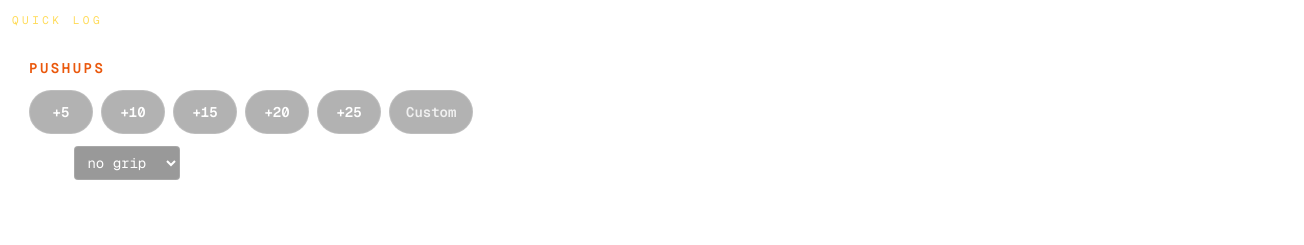
it: QuickLog › surfaces a thrown error message inline
Click the button with test id "quick-log-pushups-10". click: (133,112)
box: [101,90,165,134]
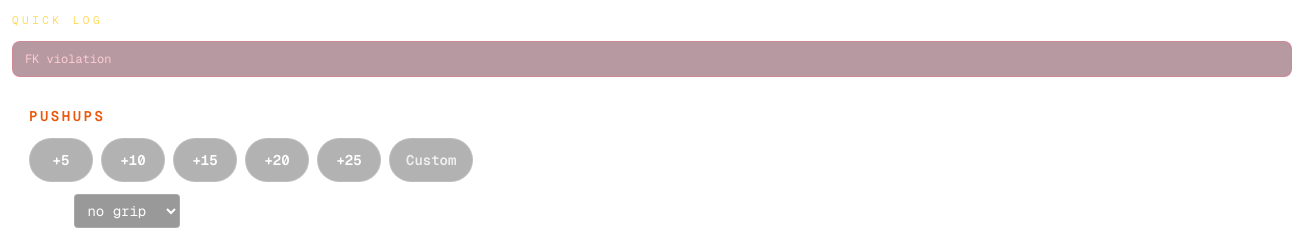
Expected: the message reads "FK violation", [25,50,111,66]
